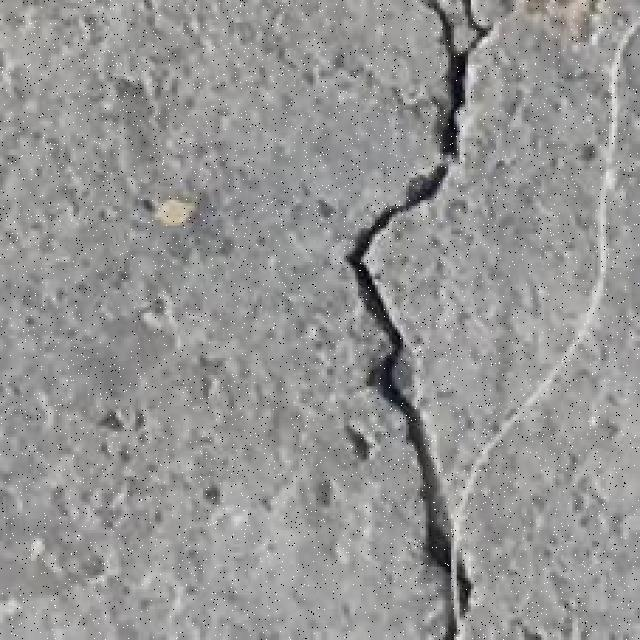crack: (1, 7, 347, 640), (345, 0, 636, 638), (5, 2, 283, 244), (215, 12, 449, 226), (467, 22, 637, 253), (173, 1, 383, 111), (3, 5, 148, 136), (11, 532, 121, 633)
